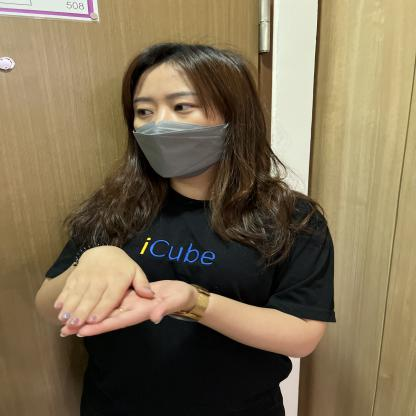Love: (31, 208, 238, 369)
